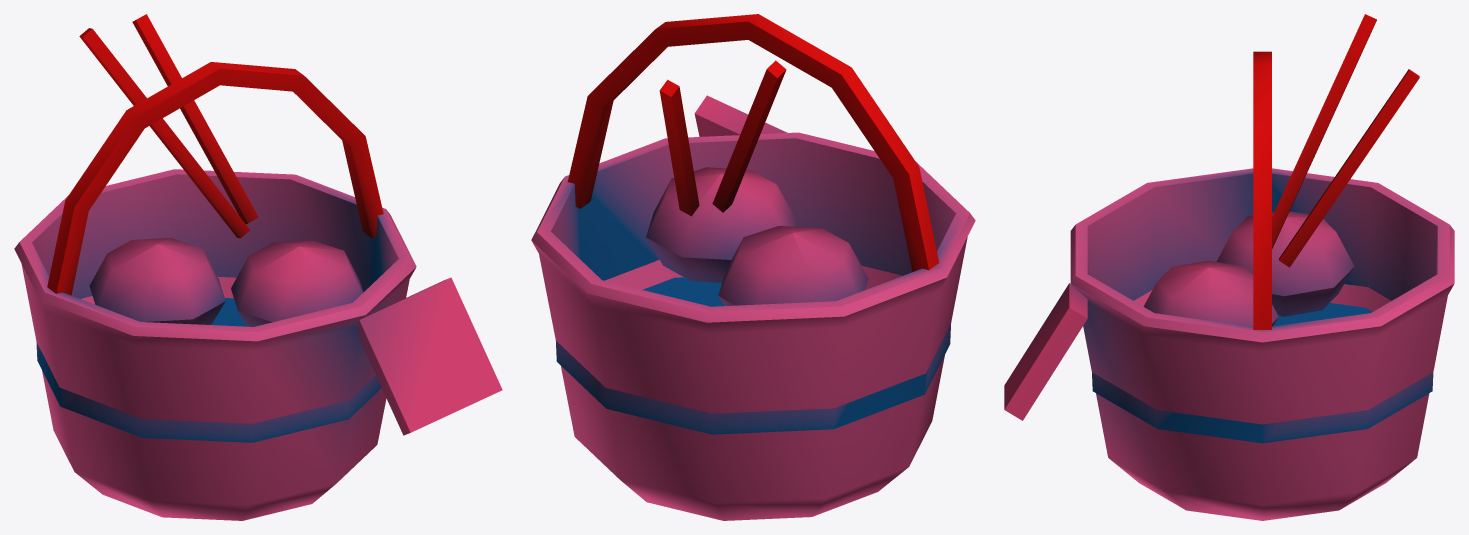
File: CI_Bedroom_KnittingBasket.glb
The picture shows the model from 3 angles, left to right: view 1: azimuth 30°, elevation 25°; view 2: azimuth 150°, elevation 25°; view 3: azimuth 270°, elevation 25°; orthographic projection. The views are drawn at different scales.
Visible parts, largest first — view 1: CI_Bedroom_KnittingBasket; view 2: CI_Bedroom_KnittingBasket; view 3: CI_Bedroom_KnittingBasket.
Part boxes in pixels (x1,y1,x2,y2): CI_Bedroom_KnittingBasket: (14,14,502,520); CI_Bedroom_KnittingBasket: (531,14,975,520); CI_Bedroom_KnittingBasket: (1004,14,1454,520).
Size of the model in its own units: 0.3728 by 0.4252 by 0.4158.
